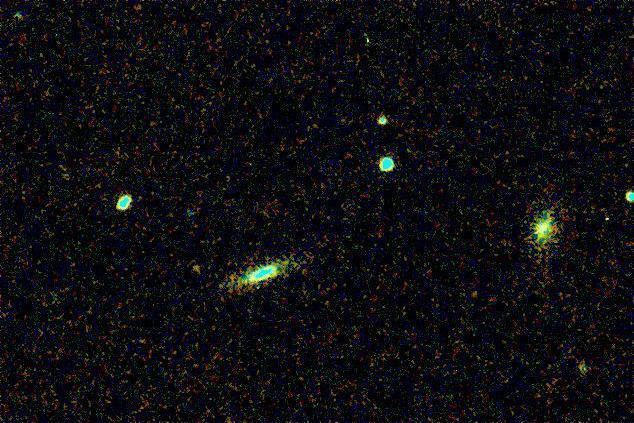star: (182, 257, 212, 287)
